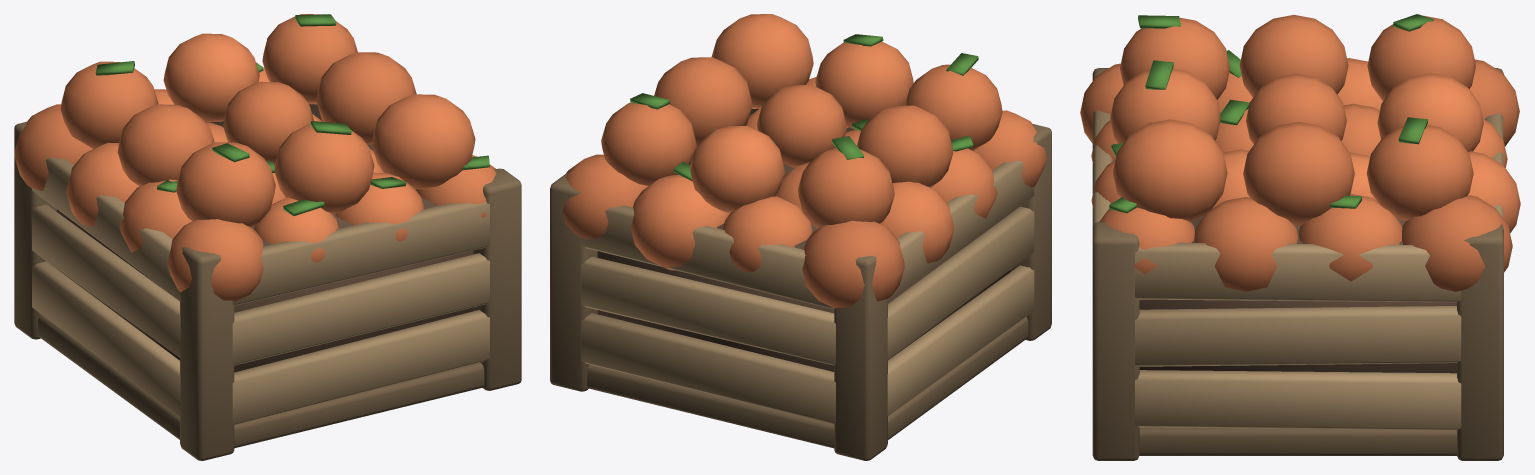
The model's file is crate_peach.glb.
3 views of the same model, side by side, from view 1: azimuth 30°, elevation 25°; view 2: azimuth 150°, elevation 25°; view 3: azimuth 270°, elevation 25° (orthographic). The views are drawn at different scales.
Parts seen in each view (by area): view 1: Crate_Peach_Peaches, Crate_Peach_Slats, Crate_Peach_Frame, Crate_Peach_Core, Crate_Peach_Leaves; view 2: Crate_Peach_Peaches, Crate_Peach_Slats, Crate_Peach_Frame, Crate_Peach_Core, Crate_Peach_Leaves; view 3: Crate_Peach_Peaches, Crate_Peach_Slats, Crate_Peach_Frame, Crate_Peach_Core, Crate_Peach_Leaves.
Part boxes in pixels (x1=…): Crate_Peach_Peaches: x1=14, y1=14, x2=496, y2=301; Crate_Peach_Slats: x1=32, y1=157, x2=489, y2=425; Crate_Peach_Frame: x1=14, y1=121, x2=521, y2=460; Crate_Peach_Core: x1=56, y1=104, x2=473, y2=372; Crate_Peach_Leaves: x1=95, y1=14, x2=489, y2=215; Crate_Peach_Peaches: x1=562, y1=14, x2=1046, y2=308; Crate_Peach_Slats: x1=581, y1=160, x2=1034, y2=423; Crate_Peach_Frame: x1=550, y1=124, x2=1051, y2=460; Crate_Peach_Core: x1=597, y1=108, x2=1009, y2=371; Crate_Peach_Leaves: x1=630, y1=34, x2=978, y2=181; Crate_Peach_Peaches: x1=1080, y1=15, x2=1520, y2=291; Crate_Peach_Slats: x1=1093, y1=110, x2=1503, y2=430; Crate_Peach_Frame: x1=1092, y1=68, x2=1503, y2=460; Crate_Peach_Core: x1=1139, y1=214, x2=1456, y2=373; Crate_Peach_Leaves: x1=1109, y1=14, x2=1433, y2=213.
Bounding box in the file's own units: 0.7409 × 0.5766 × 0.7499.
